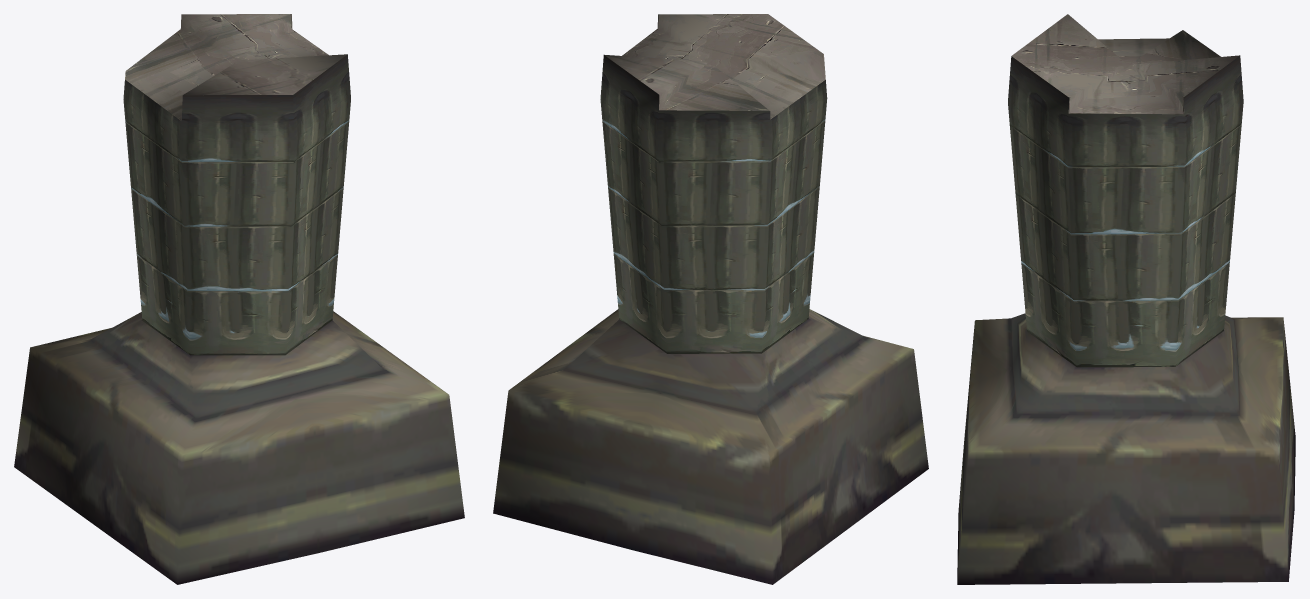
The model's file is ti_roadcolumn03.obj.
The picture shows the model from 3 angles, left to right: view 1: azimuth 30°, elevation 25°; view 2: azimuth 150°, elevation 25°; view 3: azimuth 270°, elevation 25°; orthographic projection. The views are drawn at different scales.
Visible parts, largest first — view 1: Geoset1, Geoset0, Geoset2; view 2: Geoset1, Geoset0, Geoset2; view 3: Geoset1, Geoset0, Geoset2.
Part boxes in pixels (x1,y1,x2,y2): Geoset1: (14, 311, 464, 584); Geoset0: (123, 54, 350, 355); Geoset2: (125, 14, 347, 120); Geoset1: (493, 309, 928, 584); Geoset0: (600, 55, 827, 353); Geoset2: (604, 14, 825, 119); Geoset1: (957, 313, 1295, 584); Geoset0: (1008, 55, 1243, 367); Geoset2: (1011, 14, 1239, 114).
Bounding box in the file's own units: 16.08 × 23.51 × 15.84.
Materials: 3 (3 with a texture image).
